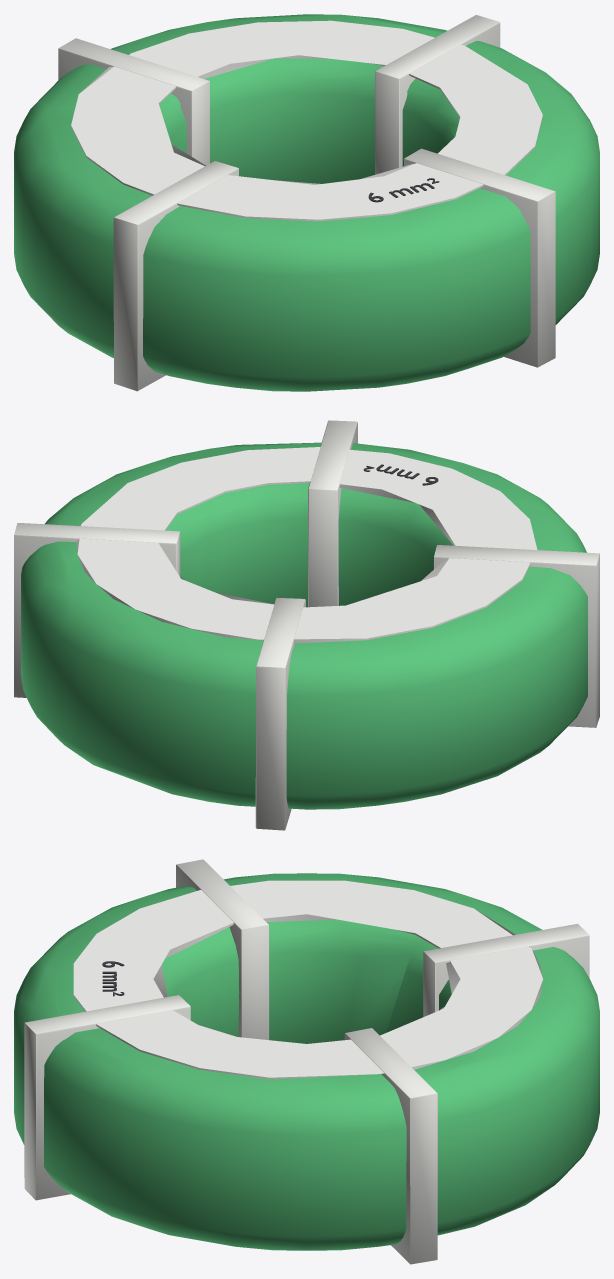
The model's file is ELE-FIO-004_lod1.glb.
3 renders of one model, top to bottom at view 1: azimuth 30°, elevation 25°; view 2: azimuth 150°, elevation 25°; view 3: azimuth 270°, elevation 25°, orthographic. The views are drawn at different scales.
Parts seen in each view (by area): view 1: ELE-FIO-004_rolo, ELE-FIO-004_etiqueta, ELE-FIO-004_fita2, ELE-FIO-004_fita3, ELE-FIO-004_fita0, ELE-FIO-004_fita1; view 2: ELE-FIO-004_rolo, ELE-FIO-004_etiqueta, ELE-FIO-004_fita1, ELE-FIO-004_fita3, ELE-FIO-004_fita2, ELE-FIO-004_fita0; view 3: ELE-FIO-004_rolo, ELE-FIO-004_etiqueta, ELE-FIO-004_fita0, ELE-FIO-004_fita3, ELE-FIO-004_fita2, ELE-FIO-004_fita1.
Part boxes in pixels (left/top/right/bottom): ELE-FIO-004_rolo: left=14, top=14, right=599, bottom=391; ELE-FIO-004_etiqueta: left=71, top=20, right=542, bottom=221; ELE-FIO-004_fita2: left=113, top=161, right=238, bottom=391; ELE-FIO-004_fita3: left=404, top=148, right=555, bottom=367; ELE-FIO-004_fita0: left=375, top=15, right=500, bottom=174; ELE-FIO-004_fita1: left=58, top=38, right=209, bottom=165; ELE-FIO-004_rolo: left=21, top=442, right=587, bottom=809; ELE-FIO-004_etiqueta: left=76, top=447, right=537, bottom=643; ELE-FIO-004_fita1: left=255, top=598, right=305, bottom=830; ELE-FIO-004_fita3: left=308, top=420, right=357, bottom=607; ELE-FIO-004_fita2: left=433, top=545, right=599, bottom=727; ELE-FIO-004_fita0: left=14, top=523, right=180, bottom=697; ELE-FIO-004_rolo: left=14, top=873, right=599, bottom=1250; ELE-FIO-004_etiqueta: left=73, top=880, right=543, bottom=1079; ELE-FIO-004_fita0: left=344, top=1028, right=437, bottom=1264; ELE-FIO-004_fita3: left=24, top=995, right=190, bottom=1200; ELE-FIO-004_fita2: left=176, top=859, right=269, bottom=1039; ELE-FIO-004_fita1: left=423, top=923, right=589, bottom=1016.
Bounding box in the file's own units: 0.2977 × 0.0937 × 0.2977.
